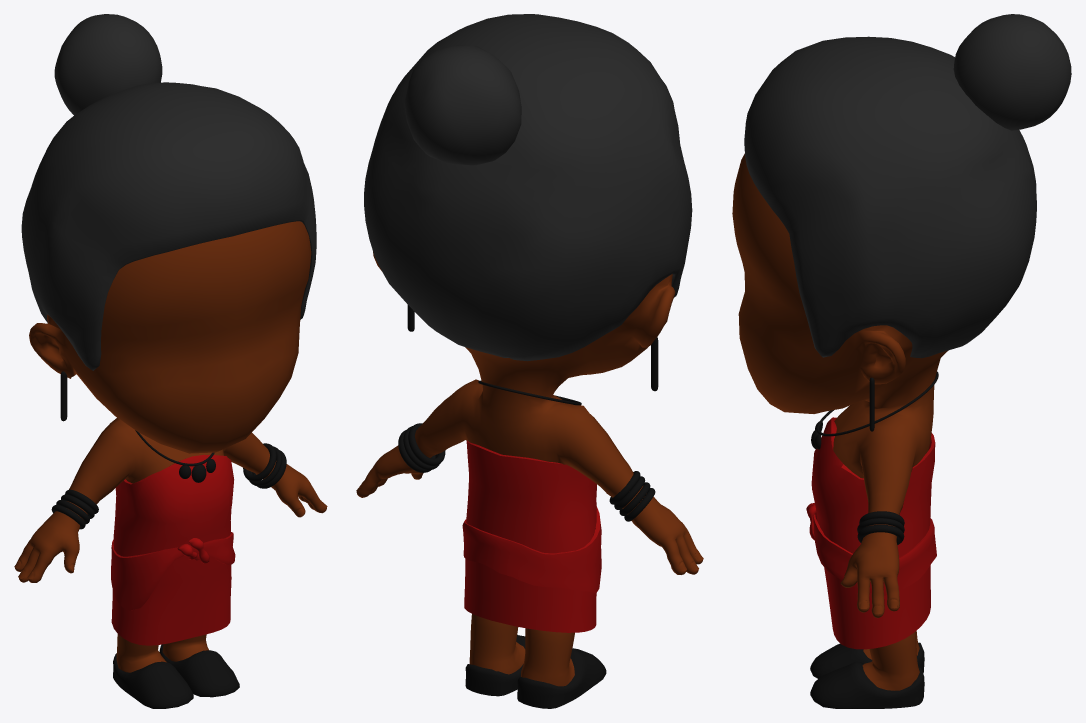
The model's file is female_ver_02_Update_2_.FBX.
3 renders of one model, left to right at view 1: azimuth 30°, elevation 25°; view 2: azimuth 150°, elevation 25°; view 3: azimuth 270°, elevation 25°, orthographic. The views are drawn at different scales.
Parts seen in each view (by area): view 1: hair_03:Group56845, hh1:body, cloth1:ZBrush_defualt_group, shoes, hh1:cloth, hh1:karay, hair2:nekless; view 2: hair_03:Group56845, hh1:body, cloth1:ZBrush_defualt_group, hh1:cloth, shoes, hh1:karay, earing; view 3: hair_03:Group56845, hh1:body, cloth1:ZBrush_defualt_group, shoes, hh1:cloth, hh1:karay, hair2:nekless.
Boxes of the visible parts, x1,y1,x2,y2 form: hair_03:Group56845: (21, 14, 316, 370); hh1:body: (14, 221, 327, 672); cloth1:ZBrush_defualt_group: (111, 454, 234, 645); shoes: (113, 644, 239, 708); hh1:cloth: (111, 532, 235, 610); hh1:karay: (51, 443, 286, 529); hair2:nekless: (135, 430, 215, 482); hair_03:Group56845: (364, 14, 692, 361); hh1:body: (356, 252, 703, 686); cloth1:ZBrush_defualt_group: (464, 440, 596, 632); hh1:cloth: (462, 506, 601, 592); shoes: (465, 635, 606, 708); hh1:karay: (398, 423, 655, 521); earing: (407, 305, 658, 391); hair_03:Group56845: (744, 14, 1071, 358); hh1:body: (732, 153, 948, 690); cloth1:ZBrush_defualt_group: (811, 417, 935, 649); shoes: (810, 642, 924, 708); hh1:cloth: (806, 503, 936, 595); hh1:karay: (857, 511, 904, 544); hair2:nekless: (811, 371, 938, 449).
Bounding box in the file's own units: 6.25 × 12.14 × 5.59.
